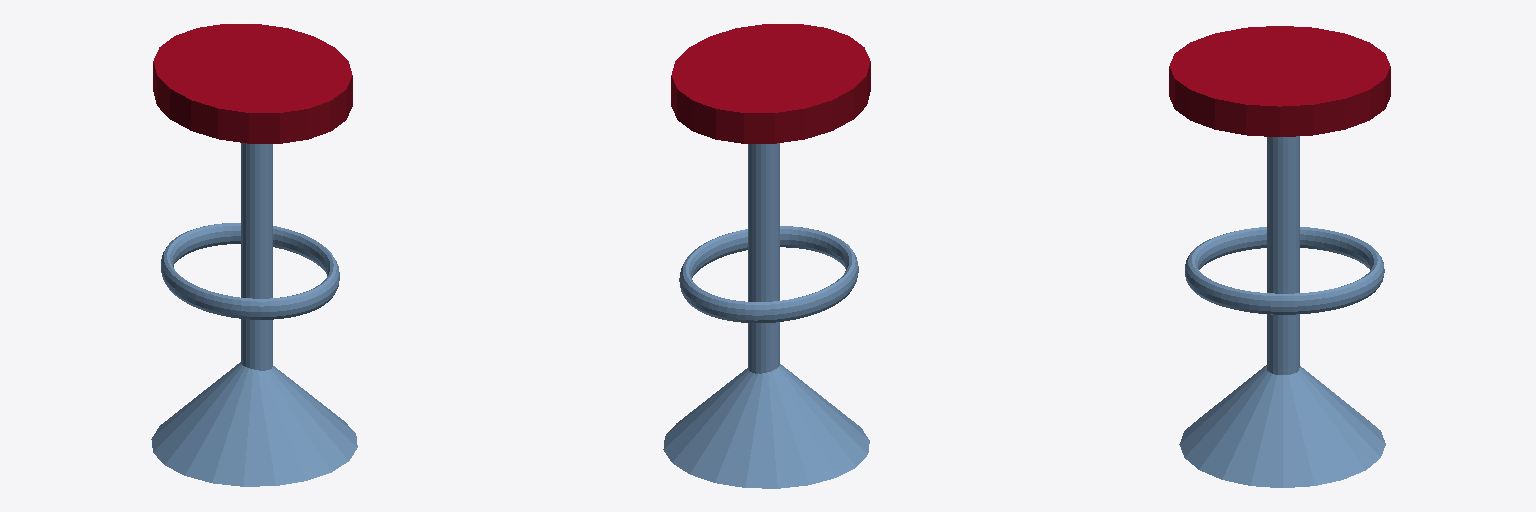
3 views of the same model, side by side, from view 1: azimuth 30°, elevation 25°; view 2: azimuth 150°, elevation 25°; view 3: azimuth 270°, elevation 25° (orthographic).
Parts seen in each view (by area): view 1: banco:polySurface13; view 2: banco:polySurface13; view 3: banco:polySurface13.
Boxes of the visible parts, x1,y1,x2,y2 form: banco:polySurface13: [151, 24, 357, 486]; banco:polySurface13: [663, 24, 870, 488]; banco:polySurface13: [1169, 26, 1390, 487].
Size of the model in its own units: 0.55 by 1.1 by 0.5854.
Materials: 6 (3 with a texture image).